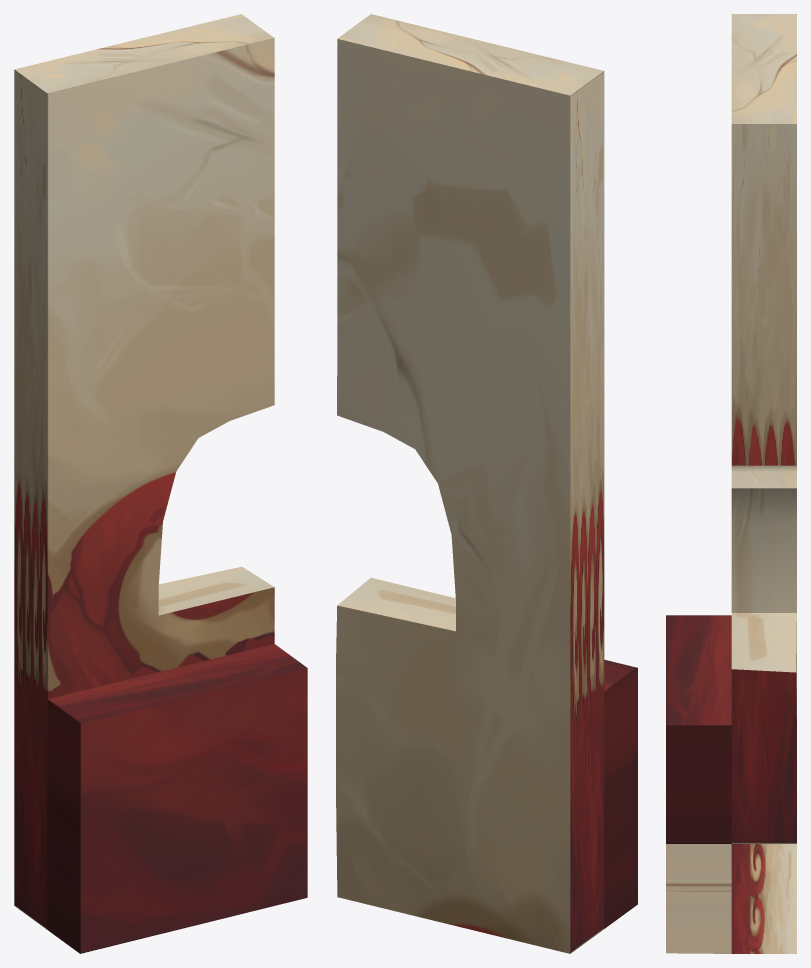
The model's file is Modulaire_FenetrePetite.fbx.
3 renders of one model, left to right at view 1: azimuth 30°, elevation 25°; view 2: azimuth 150°, elevation 25°; view 3: azimuth 270°, elevation 25°, orthographic. The views are drawn at different scales.
Parts seen in each view (by area): view 1: Box007; view 2: Box007; view 3: Box007.
Part boxes in pixels (x1,y1,x2,y2): Box007: (14,14,307,953); Box007: (336,14,637,953); Box007: (666,14,796,953).
Bounding box in the file's own units: 0.5 × 1.75 × 0.25.
